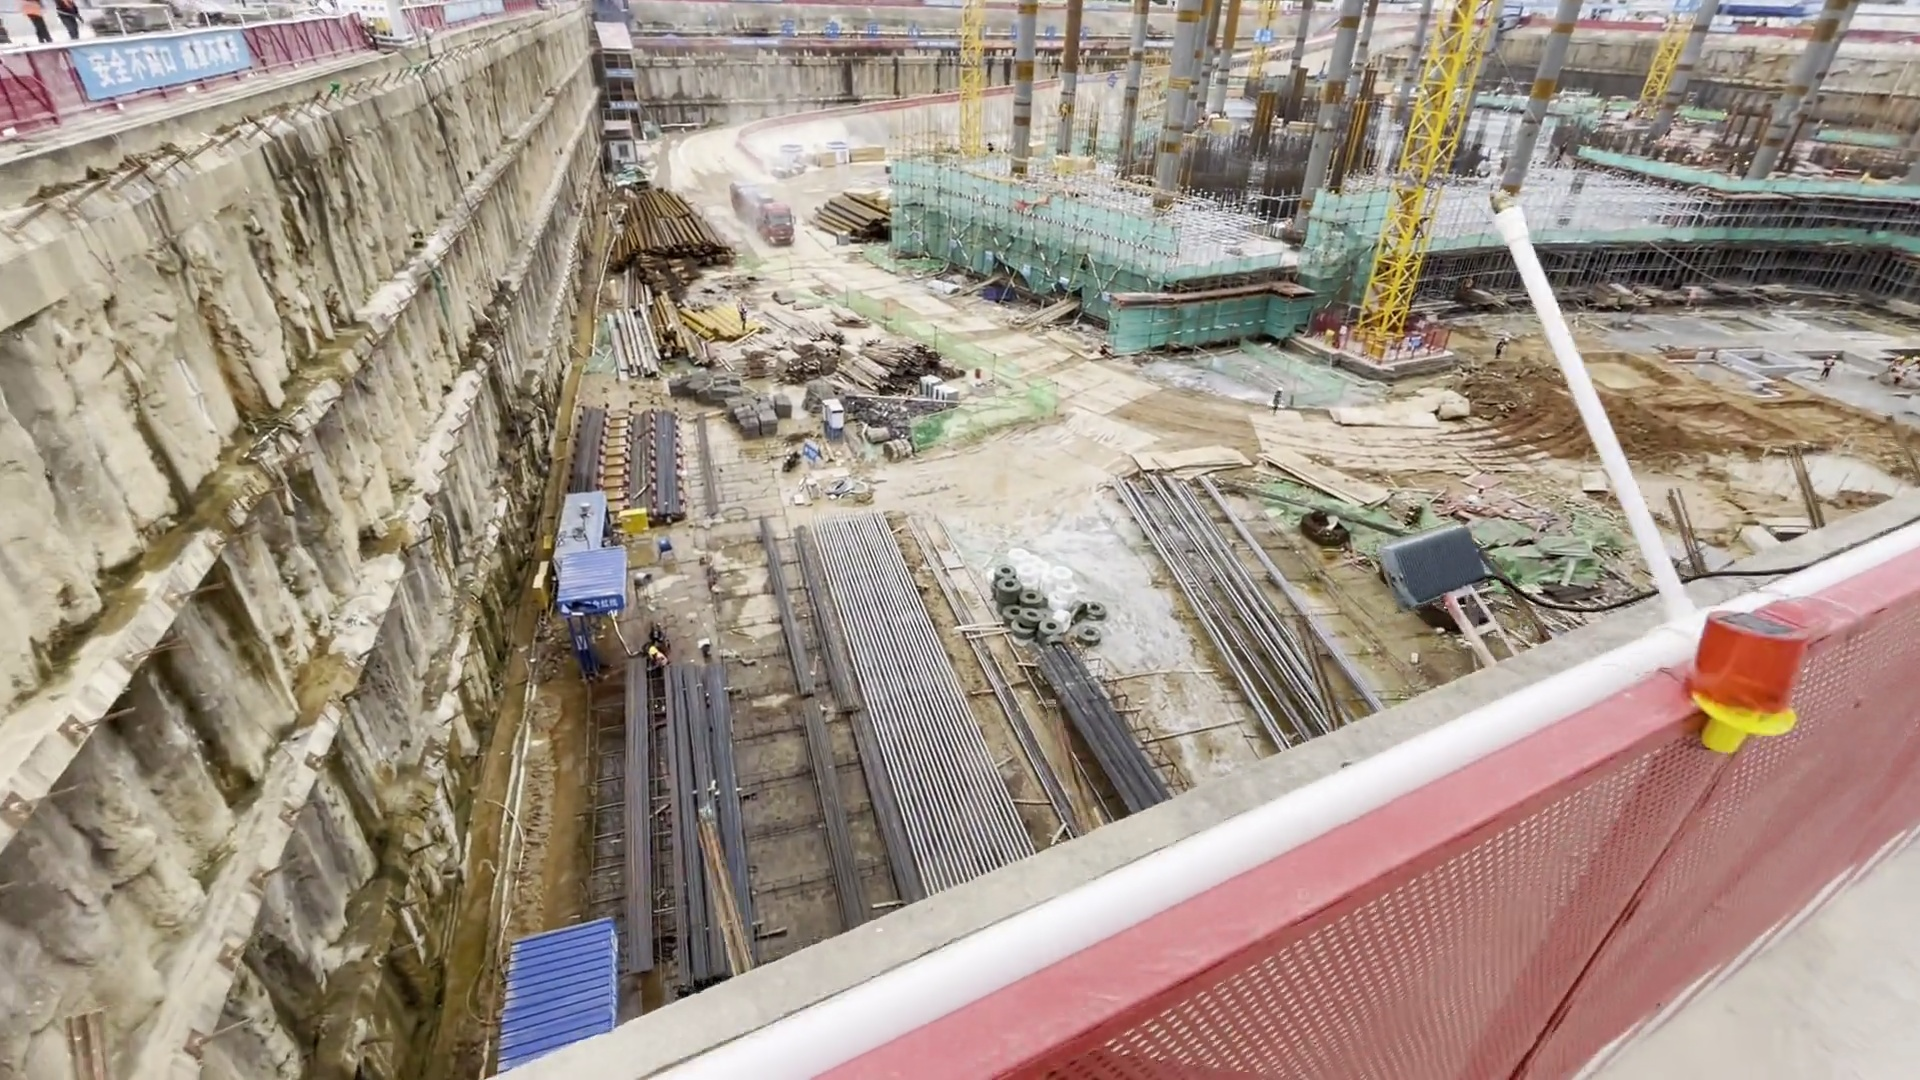brick: (917, 373, 964, 410)
ebox: (1364, 339, 1392, 366), (622, 507, 652, 534)
fence: (1259, 683, 1825, 1053), (1, 15, 385, 115)
helmet: (648, 645, 658, 653), (1276, 386, 1285, 393), (1504, 336, 1509, 345)
hopper: (982, 284, 1014, 301)
person: (645, 640, 677, 677), (1494, 333, 1512, 366), (1268, 385, 1287, 416), (1821, 352, 1837, 385), (737, 295, 749, 332)
rebar: (806, 703, 934, 916), (639, 712, 758, 933), (757, 508, 879, 708), (1043, 654, 1170, 810), (636, 416, 688, 510), (567, 416, 604, 487)
slogan: (78, 35, 250, 77), (782, 14, 930, 39), (557, 593, 621, 619)
vest: (656, 650, 668, 668), (1273, 393, 1284, 404), (1496, 340, 1504, 353)
wood: (769, 339, 848, 383), (843, 342, 947, 373)
